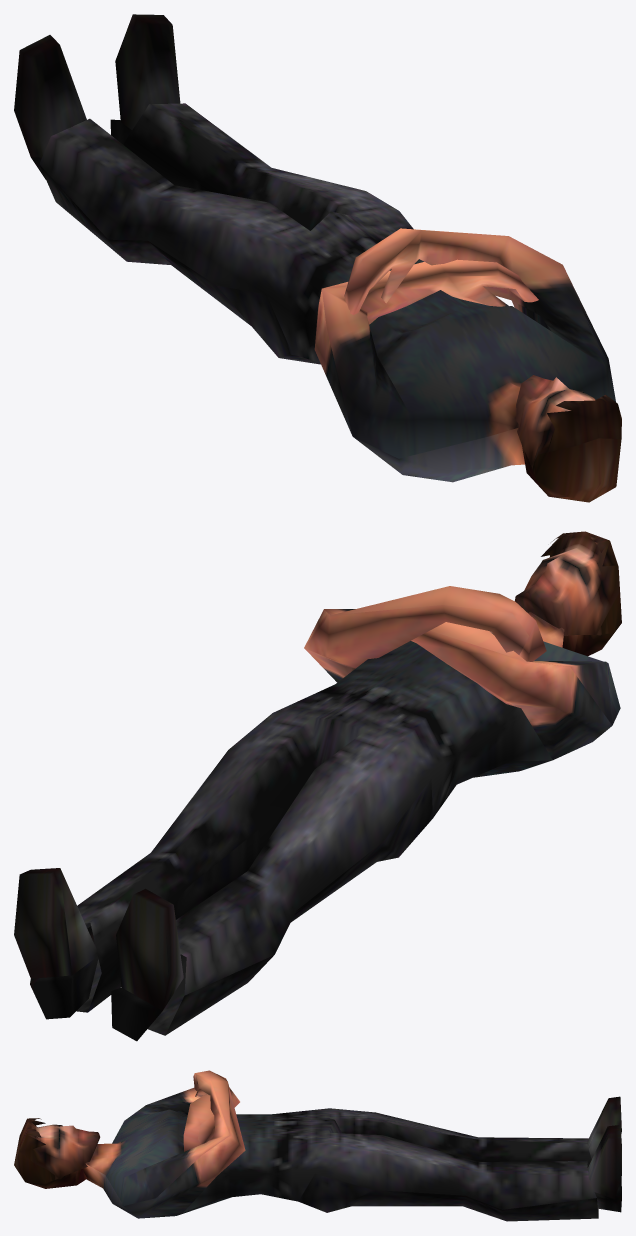
File: List.ico.obj
The picture shows the model from 3 angles, top to bottom: view 1: azimuth 30°, elevation 25°; view 2: azimuth 150°, elevation 25°; view 3: azimuth 270°, elevation 25°; orthographic projection. The views are drawn at different scales.
Size of the model in its own units: 1.4 by 1.05 by 4.82.
1 material, 1 textured.
